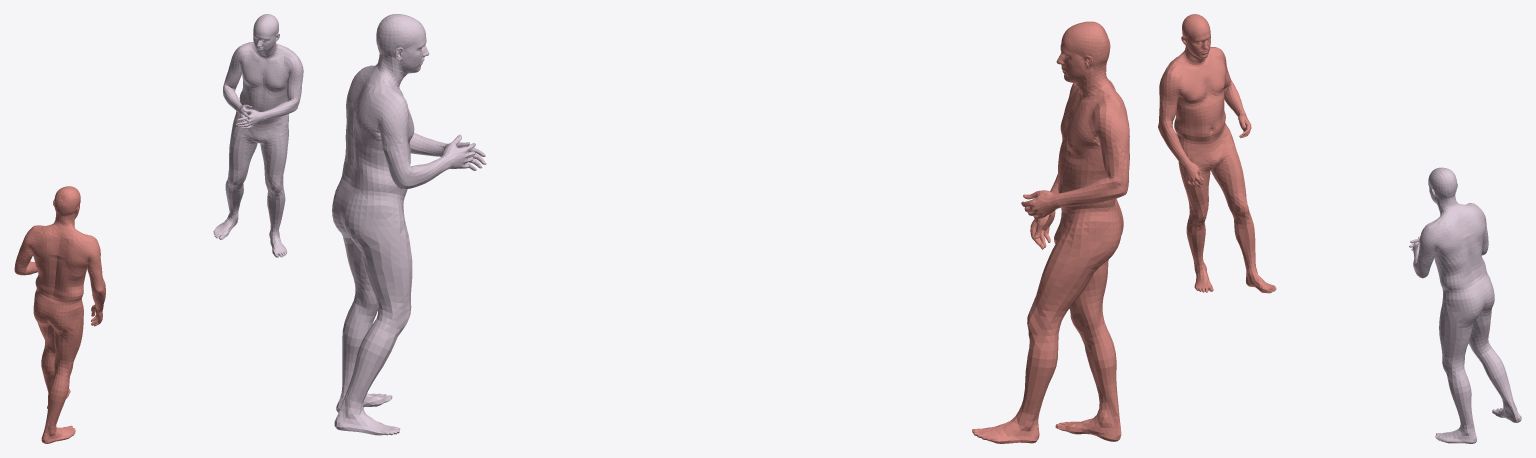
File: frame_0006.glb
3 views of the same model, side by side, from view 1: azimuth 30°, elevation 25°; view 2: azimuth 150°, elevation 25°; view 3: azimuth 270°, elevation 25° (orthographic). The views are drawn at different scales.
Parts seen in each view (by area): view 1: human_1, human_2; view 2: human_1, human_2; view 3: human_1, human_2.
Boxes of the visible parts, <box> form: human_1: <box>14,186,105,443</box>; human_2: <box>213,14,303,257</box>; human_1: <box>972,21,1129,443</box>; human_2: <box>332,14,486,435</box>; human_1: <box>1158,14,1276,293</box>; human_2: <box>1409,167,1521,443</box>.
Bounding box in the file's own units: 3.04 × 2.01 × 2.31.
